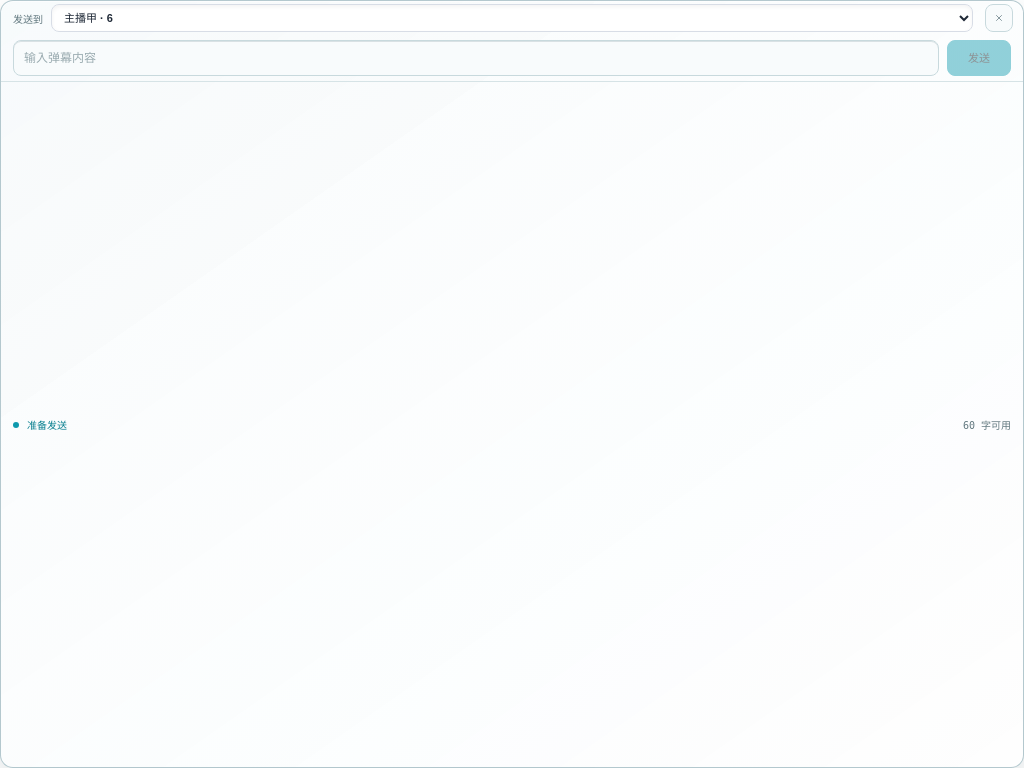
closes the window automatically after a successful send
Check: the dropdown named "发送目标直播间" shows "主播甲 · 6", box top-left (51, 4), bottom-right (973, 32)
Type "你好" into the field labelled "弹幕内容". click: (476, 58)
box: top-left (13, 40), bottom-right (939, 76)
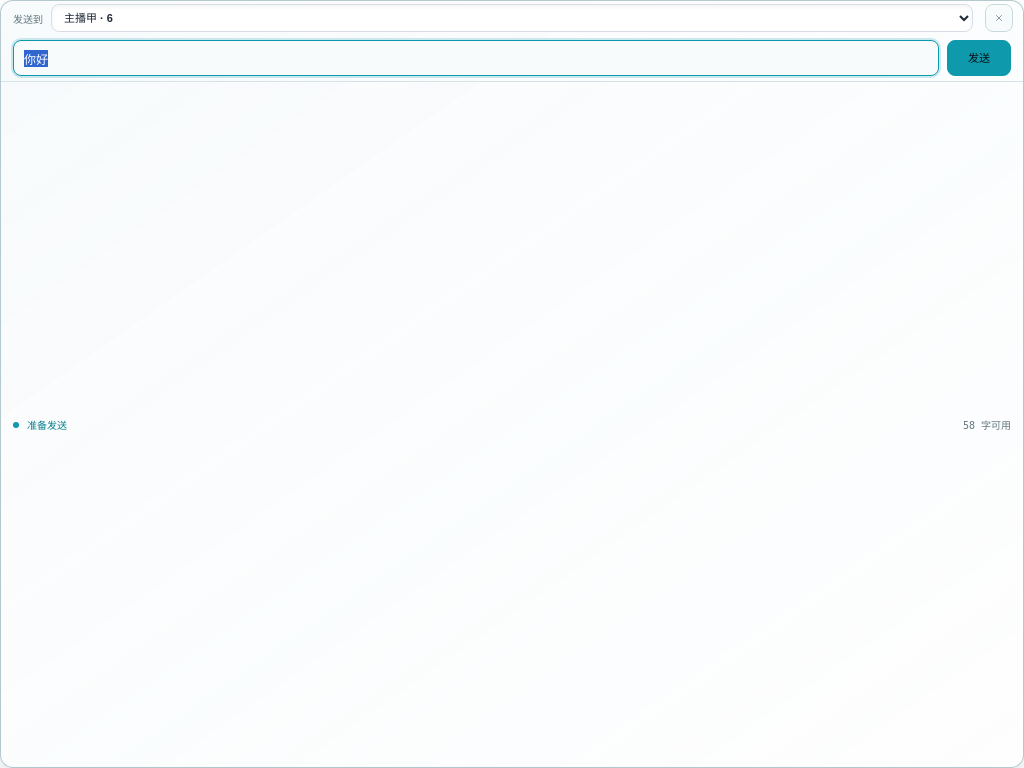
Click the button "发送". click: (979, 58)
box: top-left (947, 40), bottom-right (1011, 76)
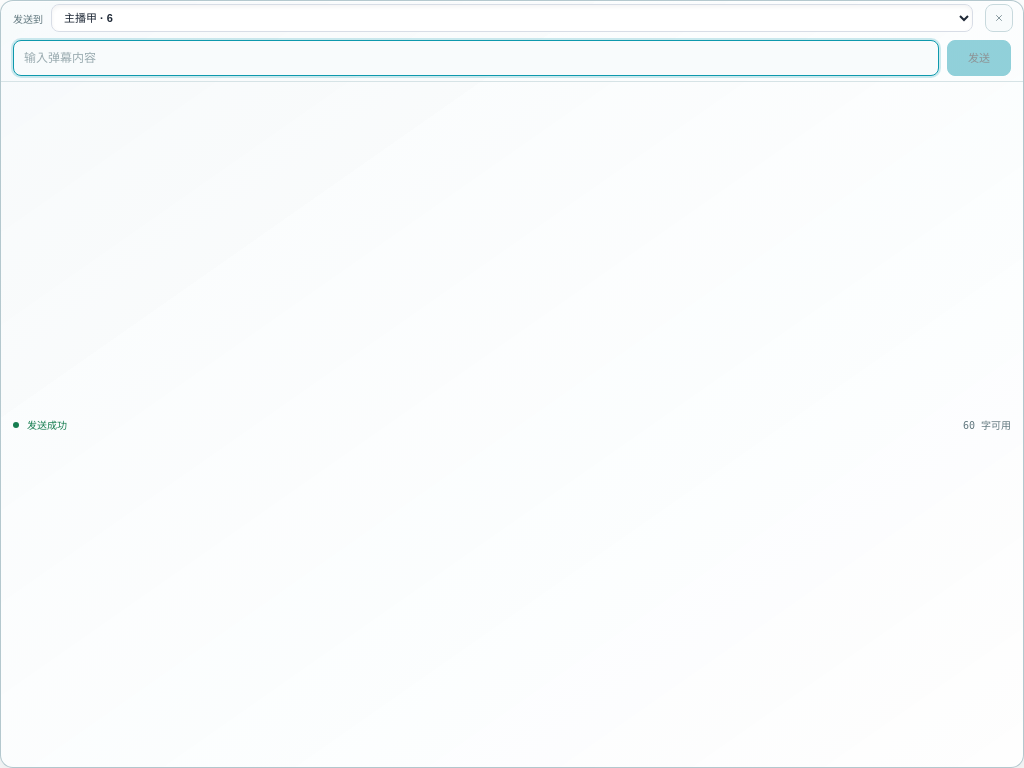
Check: the field labelled "弹幕内容" is empty, box top-left (13, 40), bottom-right (939, 76)
Check: the message reads "发送成功", box top-left (27, 419), bottom-right (67, 431)
